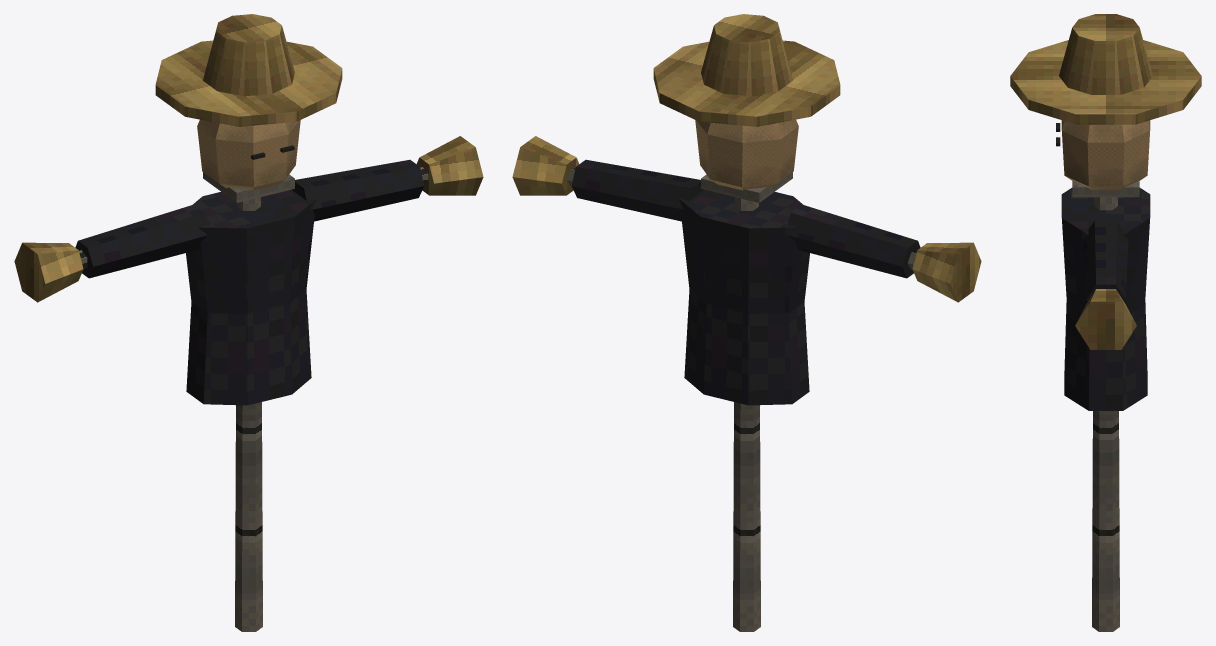
File: espantapajaros.obj
3 renders of one model, left to right at view 1: azimuth 30°, elevation 25°; view 2: azimuth 150°, elevation 25°; view 3: azimuth 270°, elevation 25°, orthographic.
Parts seen in each view (by area): view 1: espantapajaros; view 2: espantapajaros; view 3: espantapajaros.
Boxes of the visible parts, x1,y1,x2,y2 form: espantapajaros: (14, 14, 483, 631); espantapajaros: (512, 14, 981, 631); espantapajaros: (1010, 14, 1201, 631).
Bounding box in the file's own units: 1.8 × 2.35 × 0.68.
5 materials, 5 textured.
